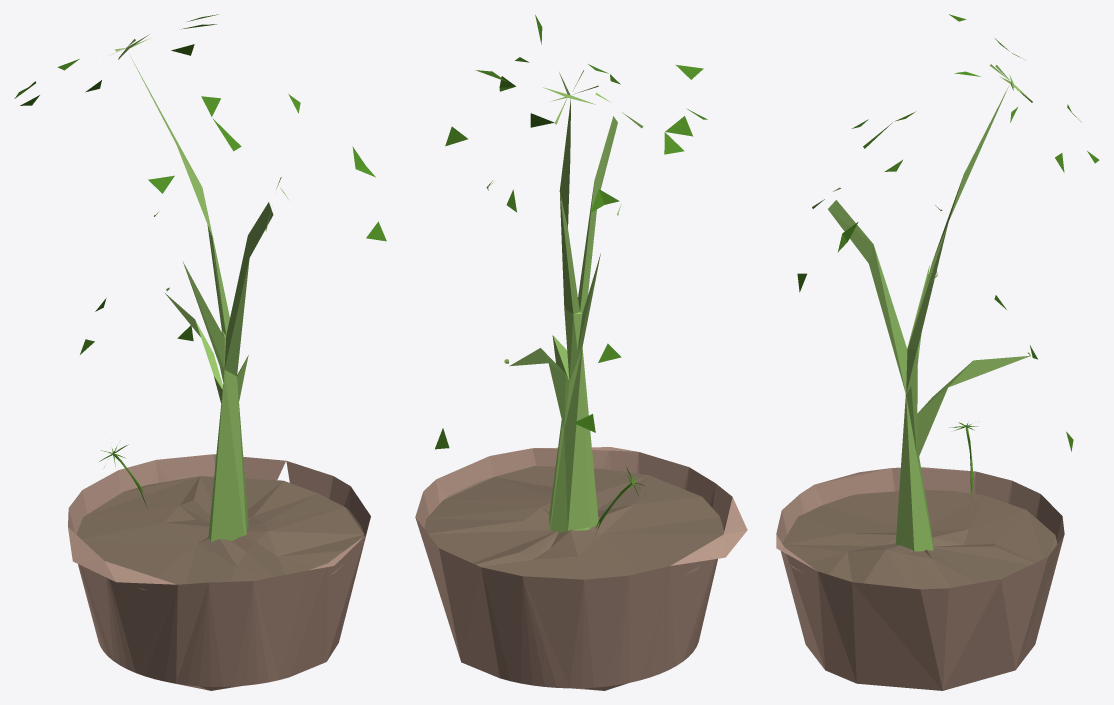
Rendered from bush_decorative_plant_2.glb.
The picture shows the model from 3 angles, left to right: view 1: azimuth 30°, elevation 25°; view 2: azimuth 150°, elevation 25°; view 3: azimuth 270°, elevation 25°; orthographic projection. The views are drawn at different scales.
Parts seen in each view (by area): view 1: Circle, Circle.006, Plane.059_Plane.089, Plane.066_Plane.096; view 2: Circle, Circle.006, Plane.059_Plane.089, Plane.066_Plane.096; view 3: Circle, Circle.006, Plane.059_Plane.089, Plane.066_Plane.096.
Boxes of the visible parts, <box> form: Circle: <box>68,454,370,690</box>; Circle.006: <box>76,476,364,590</box>; Plane.059_Plane.089: <box>130,56,273,541</box>; Plane.066_Plane.096: <box>14,14,386,508</box>; Circle: <box>415,447,747,690</box>; Circle.006: <box>424,466,724,579</box>; Plane.059_Plane.089: <box>504,99,621,532</box>; Plane.066_Plane.096: <box>435,15,707,534</box>; Circle: <box>776,467,1064,690</box>; Circle.006: <box>782,489,1057,589</box>; Plane.059_Plane.089: <box>828,86,1030,551</box>; Plane.066_Plane.096: <box>797,14,1099,507</box>.
Bounding box in the file's own units: 0.2895 × 0.5847 × 0.2946.
4 materials, 1 textured.
